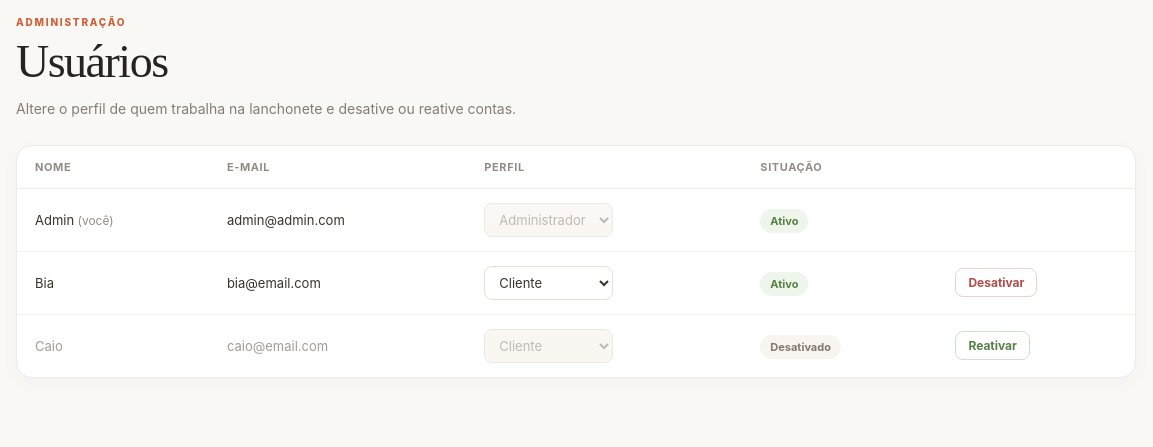
Test: AdminUsuarios › desativar confirmado marca o usuário como desativado e só deixa reativar
Check: the text "Bia" is shown, box [17, 251, 209, 314]
Step 1. Click the button "Desativar" → (996, 283), box [955, 268, 1038, 297]
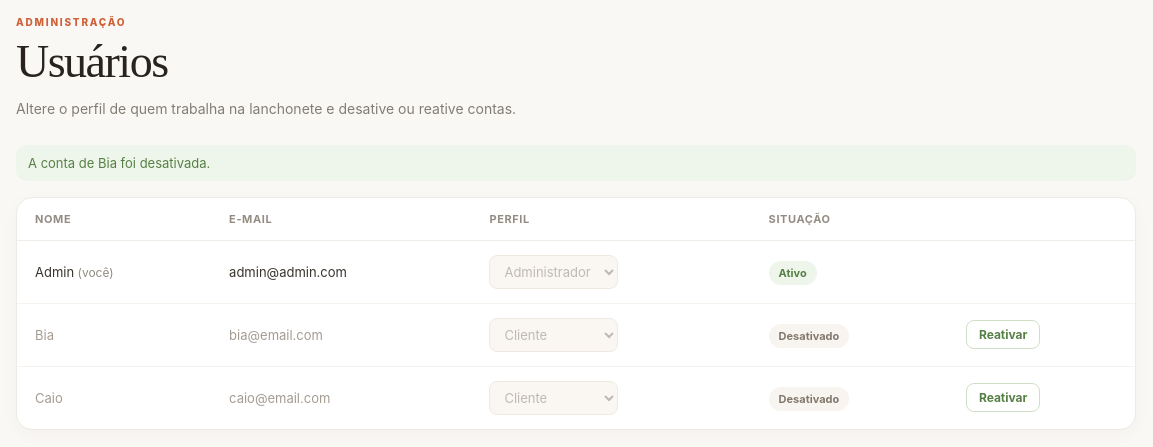
Check: the message reads "A conta de Bia foi desativada.", box [28, 155, 210, 171]
Check: the text "Desativado" in the row of "bia@email.com" is shown, box [779, 329, 839, 343]
Check: the button "Desativar" is gone
